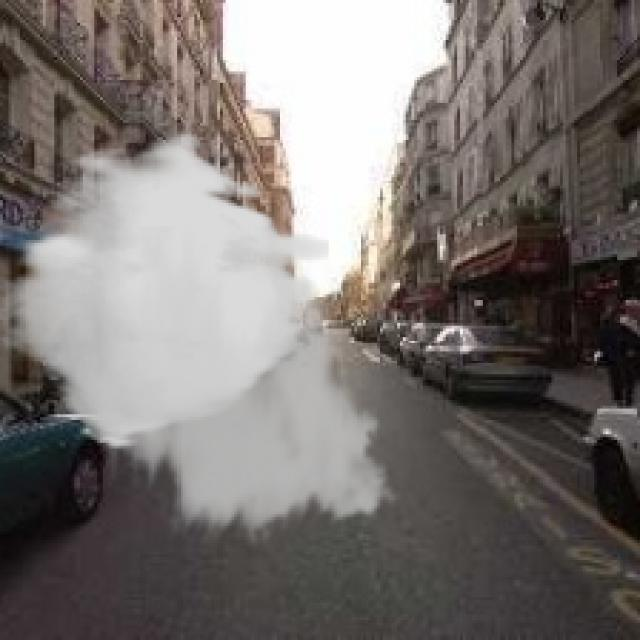smoke: (0, 131, 406, 546)
